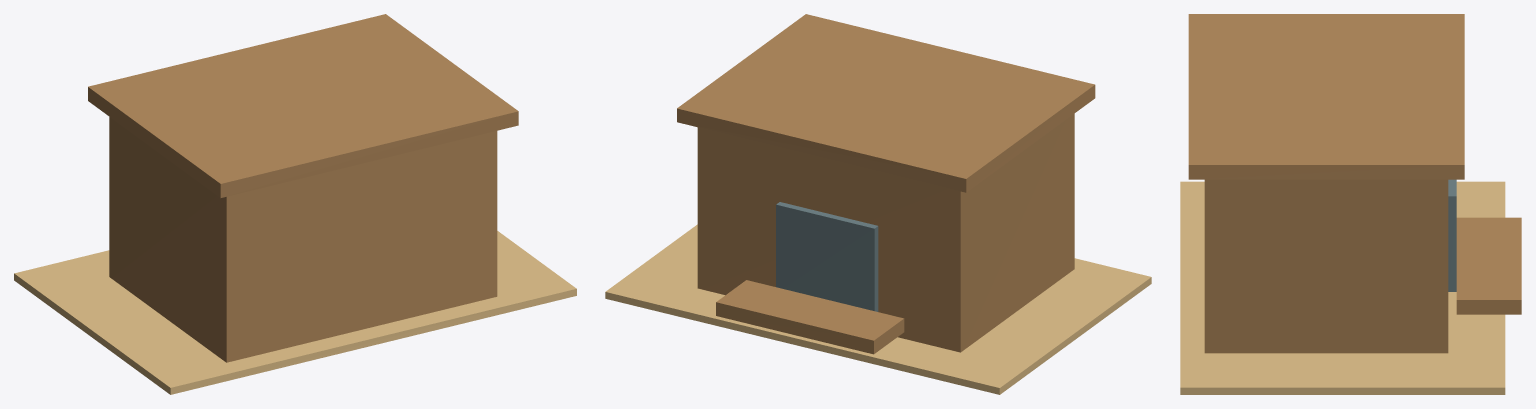
File: Automated-warehouse.glb
3 renders of one model, left to right at view 1: azimuth 30°, elevation 25°; view 2: azimuth 150°, elevation 25°; view 3: azimuth 270°, elevation 25°, orthographic. The views are drawn at different scales.
Parts seen in each view (by area): view 1: automated-warehouse-static-warehouse-wall, automated-warehouse-static-warehouse-teal, automated-warehouse-static-warehouse-earth; view 2: automated-warehouse-static-warehouse-wall, automated-warehouse-static-warehouse-teal, automated-warehouse-static-warehouse-earth, automated-warehouse-static-warehouse-metal, automated-warehouse-static-warehouse-light; view 3: automated-warehouse-static-warehouse-teal, automated-warehouse-static-warehouse-wall, automated-warehouse-static-warehouse-earth, automated-warehouse-static-warehouse-light, automated-warehouse-static-warehouse-metal.
Part boxes in pixels (x1,y1,x2,y2): automated-warehouse-static-warehouse-wall: (109,117,497,362); automated-warehouse-static-warehouse-teal: (88,14,518,197); automated-warehouse-static-warehouse-earth: (14,231,576,394); automated-warehouse-static-warehouse-wall: (697,113,1074,352); automated-warehouse-static-warehouse-teal: (677,14,1095,192); automated-warehouse-static-warehouse-earth: (605,224,1151,394); automated-warehouse-static-warehouse-metal: (776,202,878,311); automated-warehouse-static-warehouse-light: (716,280,904,354); automated-warehouse-static-warehouse-teal: (1188,14,1464,179); automated-warehouse-static-warehouse-wall: (1204,179,1448,353); automated-warehouse-static-warehouse-earth: (1180,181,1505,394); automated-warehouse-static-warehouse-light: (1456,217,1521,314); automated-warehouse-static-warehouse-metal: (1448,179,1456,291).
Size of the model in its own units: 6 by 2.75 by 4.2.
